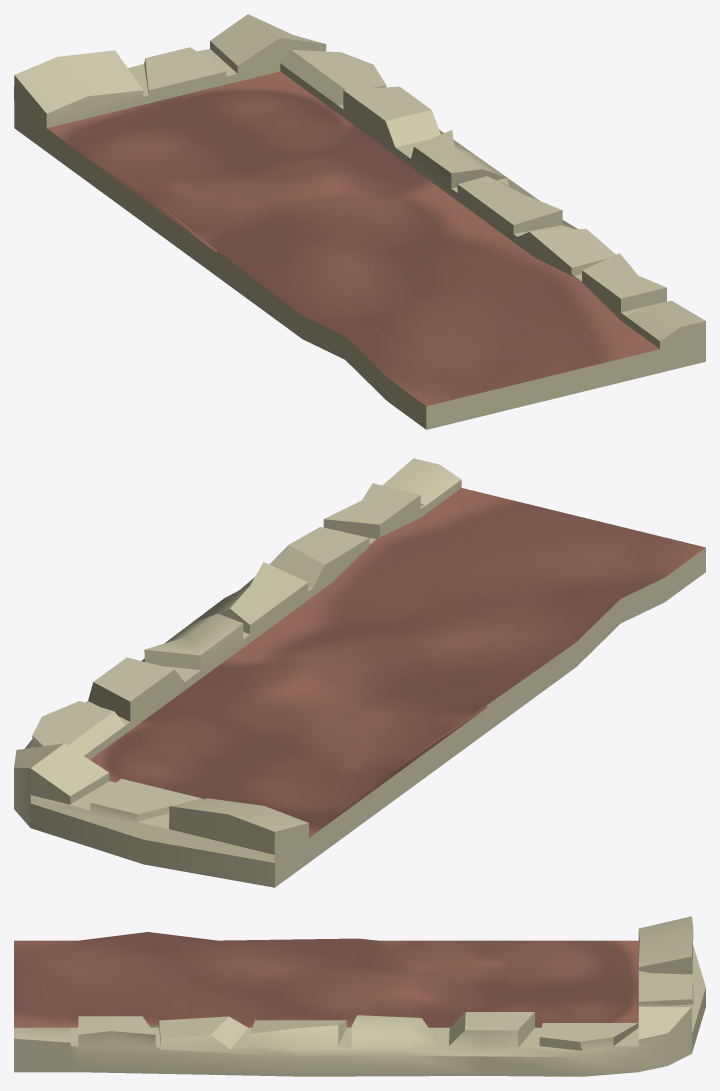
Rendered from plant bed 02.fbx.
3 views of the same model, one above another, from view 1: azimuth 30°, elevation 25°; view 2: azimuth 150°, elevation 25°; view 3: azimuth 270°, elevation 25° (orthographic). The views are drawn at different scales.
Parts seen in each view (by area): view 1: Cube.002; view 2: Cube.002; view 3: Cube.002.
Part boxes in pixels (bbox=[...]): Cube.002: bbox=[14, 14, 705, 429]; Cube.002: bbox=[14, 458, 705, 887]; Cube.002: bbox=[14, 916, 705, 1076].
Bounding box in the file's own units: 280 × 55.18 × 700.
